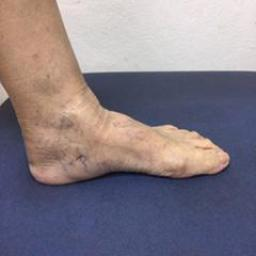Medial View -Left Foot-: (3, 94, 237, 200)
